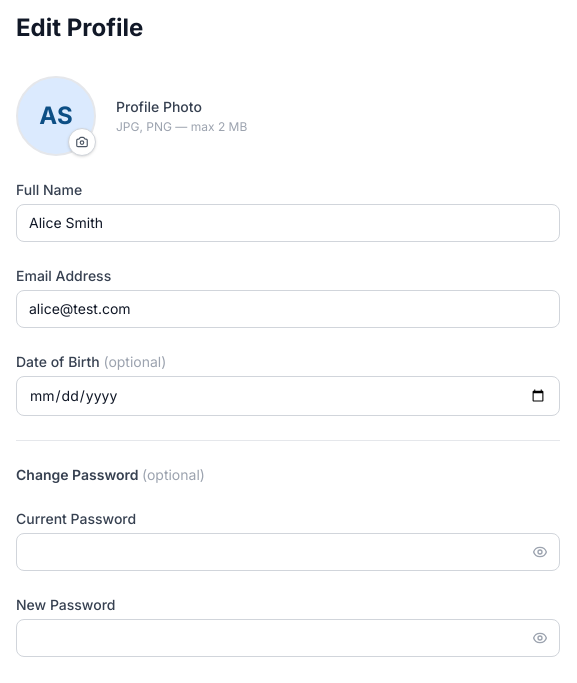
EditProfilePage › shows password mismatch error inline when new passwords differ
Step 1. Type "abc123" into the password field labelled "New Password" → (288, 638), box x1=16 y1=619 x2=560 y2=657
(page scrolled)
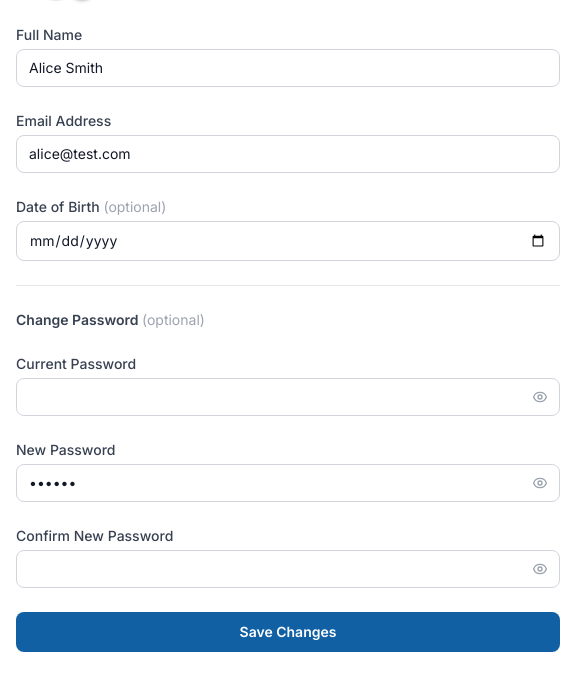
Step 2. Type "different" into the password field labelled "Confirm New Password" → (288, 569), box x1=16 y1=550 x2=560 y2=588
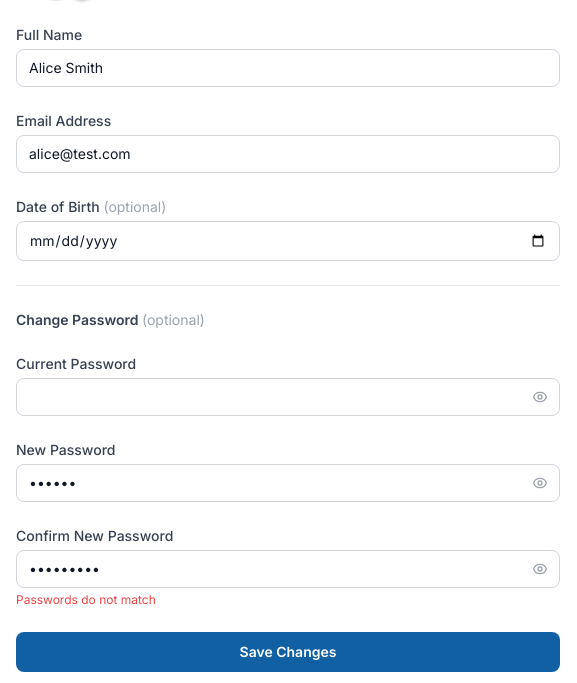
Now the text "Passwords do not match" is shown, box x1=16 y1=592 x2=156 y2=607
